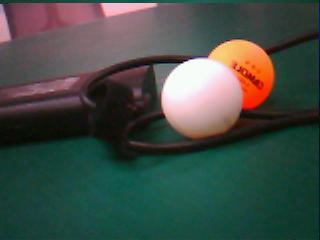oball: (207, 41, 274, 110)
